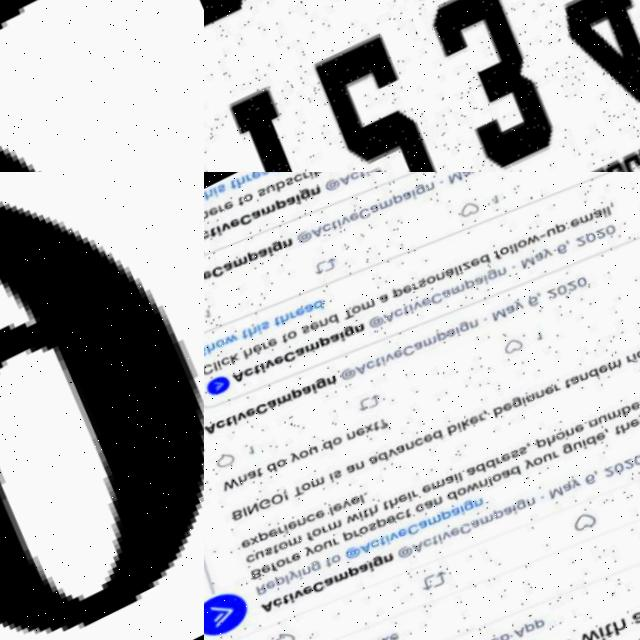0: (605, 224, 620, 240), (577, 277, 592, 292), (586, 232, 600, 247), (617, 464, 631, 477), (558, 286, 572, 299), (636, 456, 640, 469)
1: (217, 79, 356, 172), (251, 446, 261, 457), (537, 333, 548, 343), (205, 309, 215, 319), (492, 196, 501, 207)
2: (299, 30, 464, 172), (576, 236, 591, 252), (595, 228, 610, 244), (626, 458, 640, 473), (548, 288, 562, 303), (607, 468, 621, 481), (568, 281, 581, 294)
3: (414, 0, 582, 172)
4: (524, 0, 640, 128)
6: (556, 244, 572, 258), (589, 475, 603, 488), (529, 297, 543, 310)
9: (0, 172, 204, 640)
Q: (0, 0, 204, 172)
